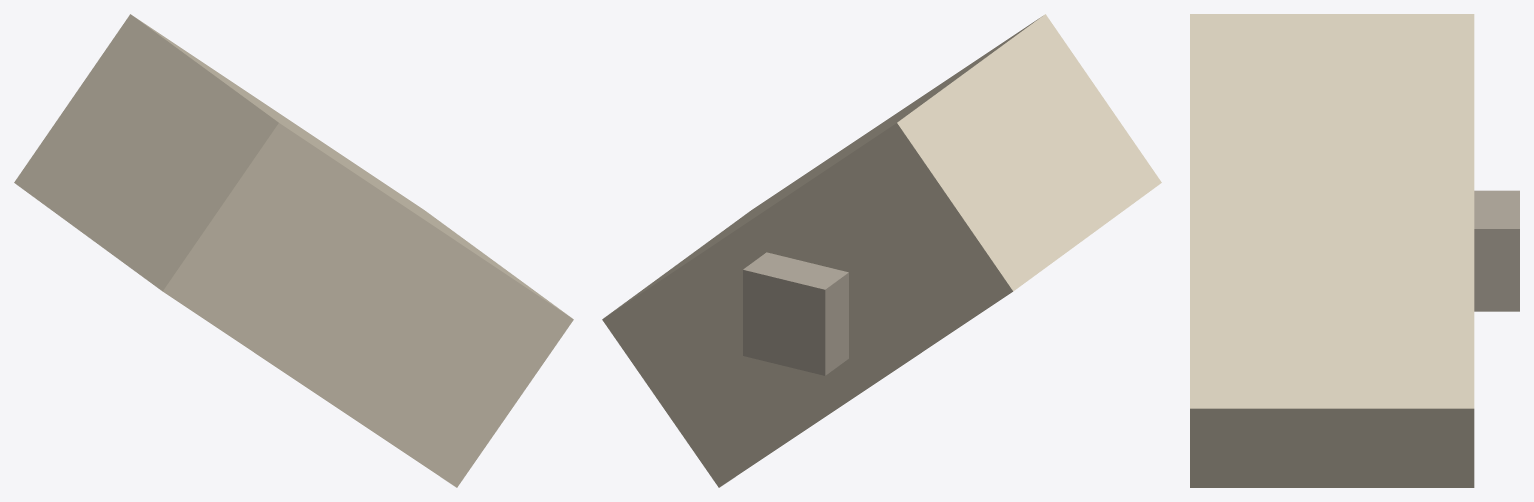
Rendered from historic-palestine-01_20_3430_3140.glb.
The picture shows the model from 3 angles, left to right: view 1: azimuth 30°, elevation 25°; view 2: azimuth 150°, elevation 25°; view 3: azimuth 270°, elevation 25°; orthographic projection. The views are drawn at different scales.
Visible parts, largest first — view 1: Building_; view 2: Building_, Roof access hut; view 3: Building_, Roof access hut.
Part boxes in pixels (x1,y1,x2,y2): Building_: (14,14,573,487); Building_: (602,14,1161,487); Roof access hut: (743,252,848,375); Building_: (1190,14,1474,487); Roof access hut: (1474,190,1519,311).
Size of the model in its own units: 11.98 by 11.38 by 8.7.
